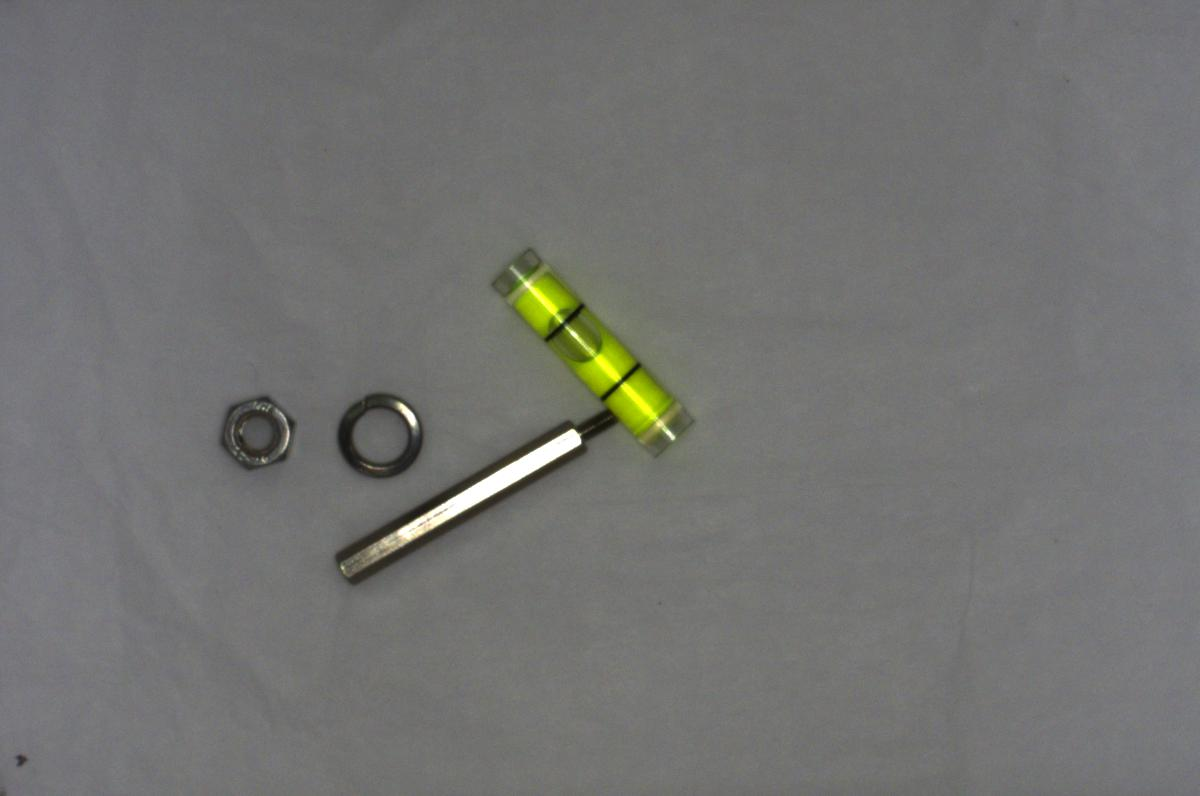Hexagon nut: (215, 394, 302, 475)
Hexagonal steel column: (333, 403, 626, 593)
Horizontal bubble: (486, 240, 706, 462)
Spring washer: (328, 385, 425, 480)
